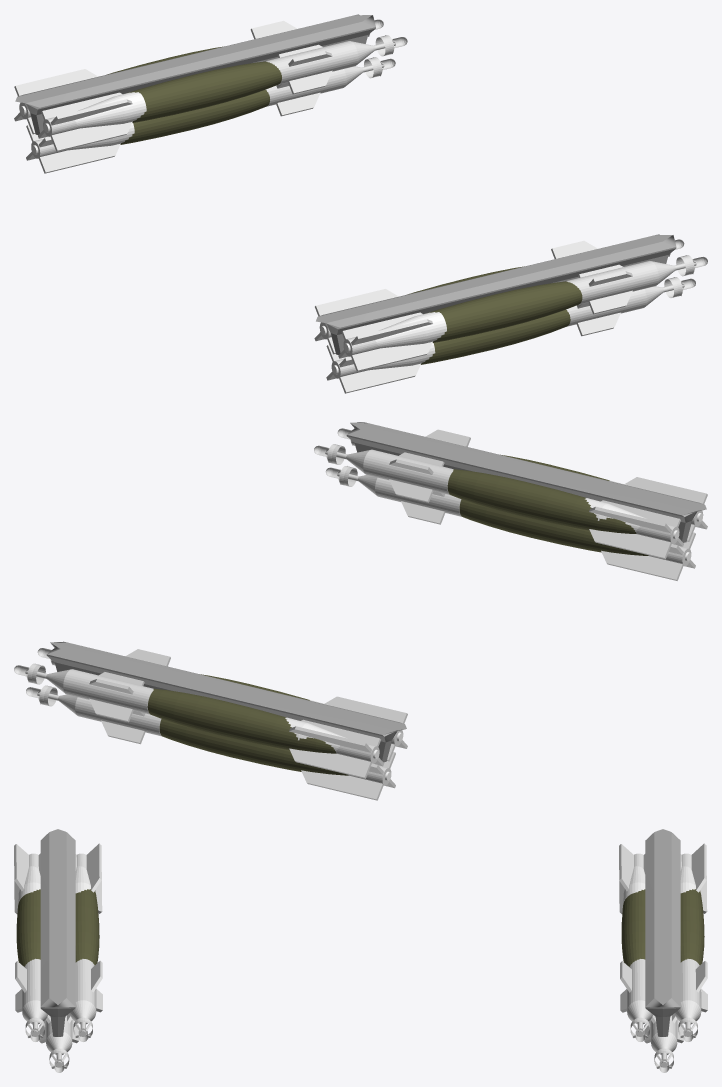
Rendered from f15egbu122121.glb.
3 views of the same model, one above another, from view 1: azimuth 30°, elevation 25°; view 2: azimuth 150°, elevation 25°; view 3: azimuth 270°, elevation 25° (orthographic).
Parts seen in each view (by area): view 1: 円柱.001, 円柱.002, 立方体.012, 立方体.021, 円柱.011, 円柱.013, 円柱.012, 円柱.010; view 2: 円柱.010, 円柱.012, 立方体.012, 立方体.021, 円柱.013, 円柱.011, 円柱.001, 円柱.002; view 3: 立方体.012, 立方体.021, 円柱.010, 円柱.012, 円柱.002, 円柱.001, 円柱.011, 円柱.013.
Part boxes in pixels (<box>): 円柱.001: <box>338,255,707,371</box>; 円柱.002: <box>38,35,407,151</box>; 立方体.012: <box>316,234,676,354</box>; 立方体.021: <box>15,14,375,134</box>; 円柱.011: <box>326,277,695,393</box>; 円柱.013: <box>26,57,395,173</box>; 円柱.012: <box>14,19,383,134</box>; 円柱.010: <box>314,239,684,354</box>; 円柱.010: <box>314,444,683,559</box>; 円柱.012: <box>14,663,384,778</box>; 立方体.012: <box>346,422,706,542</box>; 立方体.021: <box>46,641,406,762</box>; 円柱.013: <box>26,685,395,800</box>; 円柱.011: <box>325,466,695,580</box>; 円柱.001: <box>337,428,707,541</box>; 円柱.002: <box>37,648,407,761</box>; 立方体.012: <box>40,829,75,1036</box>; 立方体.021: <box>645,829,680,1036</box>; 円柱.010: <box>70,843,102,1041</box>; 円柱.012: <box>675,843,707,1041</box>; 円柱.002: <box>619,844,652,1041</box>; 円柱.001: <box>14,844,47,1041</box>; 円柱.011: <box>39,1013,78,1072</box>; 円柱.013: <box>644,1013,683,1072</box>.
Bounding box in the file's own units: 3.88 × 0.699 × 6.08.
4 materials, 1 textured.
